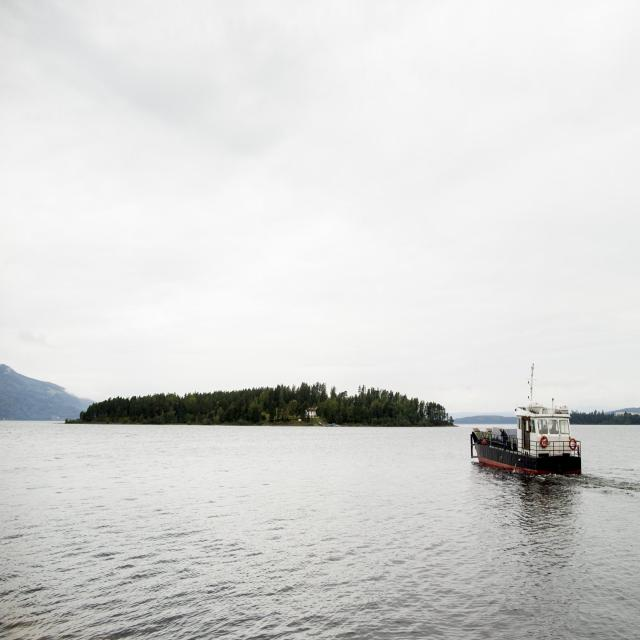fishing boat: (464, 392, 588, 480)
